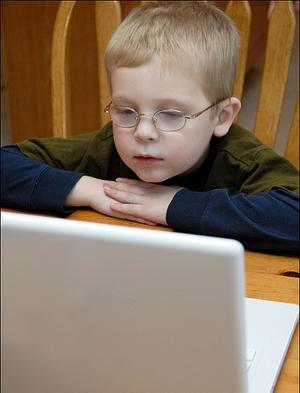person: (1, 1, 300, 261)
